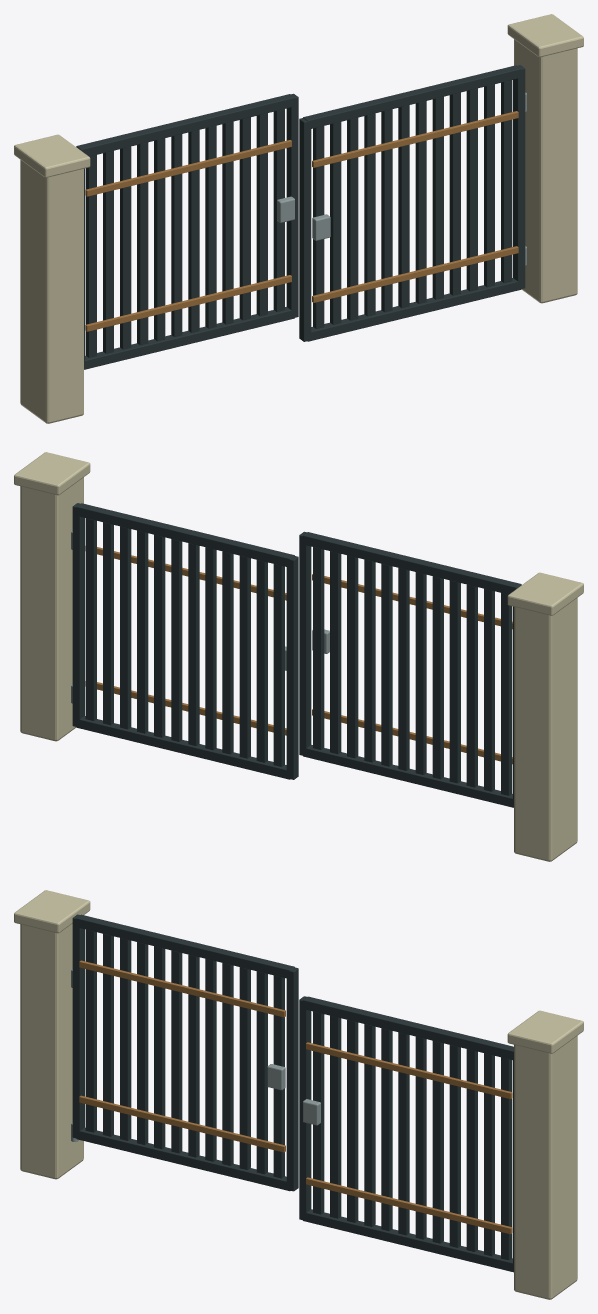
Rendered from source-edit.glb.
3 renders of one model, top to bottom at view 1: azimuth 30°, elevation 25°; view 2: azimuth 150°, elevation 25°; view 3: azimuth 330°, elevation 25°, orthographic.
Parts seen in each view (by area): view 1: PIER, PIER.001, Right_Rail.001, Left_Rail.001, Right_Stile.001, Right_Rail, Right_Stile, Left_Rail, Left_Stile.001, Left_Slat_3, Left_Slat_8, Right_Slat_9 (+27 smaller); view 2: PIER, PIER.001, Right_Rail.001, Left_Rail.001, Right_Stile.001, Left_Stile.001, Right_Stile, Right_Rail, Left_Rail, Left_Slat_3, Right_Slat_7, Left_Slat_4 (+27 smaller); view 3: PIER.001, PIER, Left_Rail.001, Right_Rail.001, Left_Stile.001, Left_Stile, Left_Rail, Right_Rail, Right_Stile.001, Right_Slat_8, Left_Slat_6, Left_Slat_7 (+27 smaller).
Part boxes in pixels (box(x1,y1,x2,y2)): PIER: box(20, 160, 83, 423); PIER.001: box(514, 39, 577, 303); Right_Rail.001: box(303, 65, 521, 128); Left_Rail.001: box(76, 94, 294, 156); Right_Stile.001: box(299, 118, 311, 341); Right_Rail: box(308, 278, 521, 341); Right_Stile: box(513, 65, 525, 288); Left_Rail: box(84, 307, 294, 369); Left_Stile.001: box(286, 93, 298, 317); Left_Slat_3: box(137, 142, 148, 345); Left_Slat_8: box(222, 121, 233, 324); Right_Slat_9: box(347, 117, 358, 320); PIER: box(514, 598, 577, 861); PIER.001: box(20, 477, 83, 741); Right_Rail.001: box(76, 503, 294, 566); Left_Rail.001: box(303, 532, 521, 594); Right_Stile.001: box(286, 556, 298, 779); Left_Stile.001: box(299, 531, 311, 755); Right_Stile: box(72, 503, 84, 726); Right_Rail: box(76, 716, 289, 779); Left_Rail: box(303, 745, 513, 807); Left_Slat_3: box(449, 580, 460, 783); Right_Slat_7: box(205, 547, 216, 750); Left_Slat_4: box(432, 576, 443, 779); PIER.001: box(514, 1036, 577, 1299); PIER: box(20, 923, 83, 1179); Left_Rail.001: box(76, 914, 294, 978); Right_Rail.001: box(303, 996, 513, 1059); Left_Stile.001: box(286, 967, 298, 1191); Left_Stile: box(72, 914, 84, 1138); Left_Rail: box(76, 1127, 290, 1191); Right_Rail: box(303, 1209, 513, 1272); Right_Stile.001: box(299, 996, 311, 1220); Right_Slat_8: box(364, 1024, 375, 1226); Left_Slat_6: box(188, 954, 199, 1157); Left_Slat_7: box(205, 958, 216, 1161).
Bounding box in the file's own units: 4.26 × 1.96 × 0.44.
